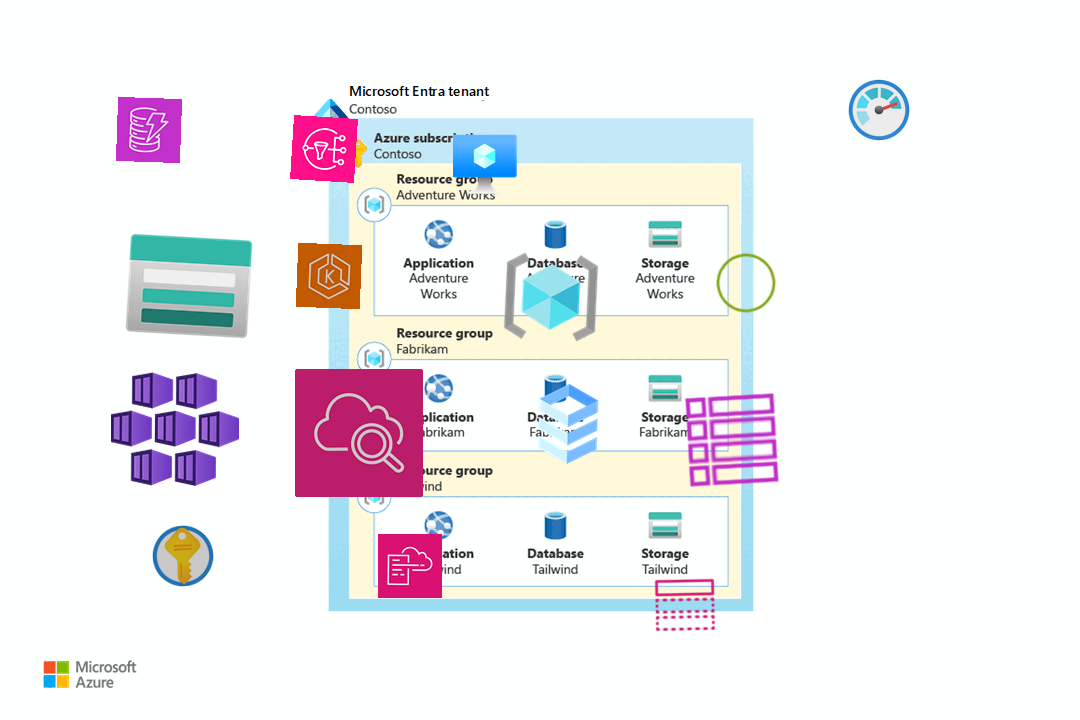aws_amazon_cloudwatch: (294, 368, 424, 498)
aws_amazon_dynamodb: (115, 96, 183, 164)
aws_amazon_elastic_kubernetes_service: (295, 242, 363, 310)
aws_amazon_simple_notification_service: (290, 115, 358, 183)
aws_cloudformation: (377, 533, 443, 599)
aws_dynamodb_table: (681, 389, 783, 491)
aws_simple_notification_service_topic: (652, 572, 718, 638)
aws_simple_storage_service_object: (711, 248, 781, 318)
azure_key_vaults: (149, 522, 217, 590)
azure_kubernetes_services: (110, 363, 240, 493)
azure_monitor: (846, 77, 912, 143)
azure_resource_groups: (500, 246, 602, 348)
azure_storage_accounts: (121, 218, 257, 354)
azure_virtual_machine: (452, 133, 518, 199)
gcp_cloud_sql: (518, 374, 618, 474)
